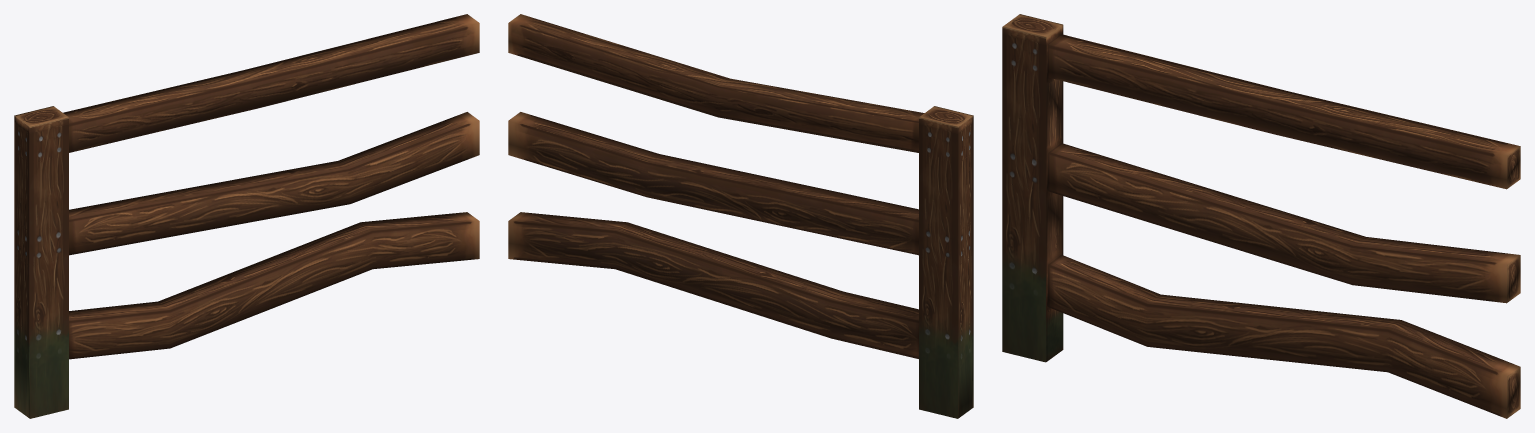
Rendered from cerca2.fbx.
3 renders of one model, left to right at view 1: azimuth 30°, elevation 25°; view 2: azimuth 150°, elevation 25°; view 3: azimuth 330°, elevation 25°, orthographic. The views are drawn at different scales.
Visible parts, largest first — view 1: CA_OPE_Props_Fazenda; view 2: CA_OPE_Props_Fazenda; view 3: CA_OPE_Props_Fazenda.
Part boxes in pixels (x1,y1,x2,y2): CA_OPE_Props_Fazenda: (14, 14, 479, 418); CA_OPE_Props_Fazenda: (508, 14, 973, 418); CA_OPE_Props_Fazenda: (1002, 14, 1520, 418).
Size of the model in its own units: 3.32 by 2.05 by 0.3203.
